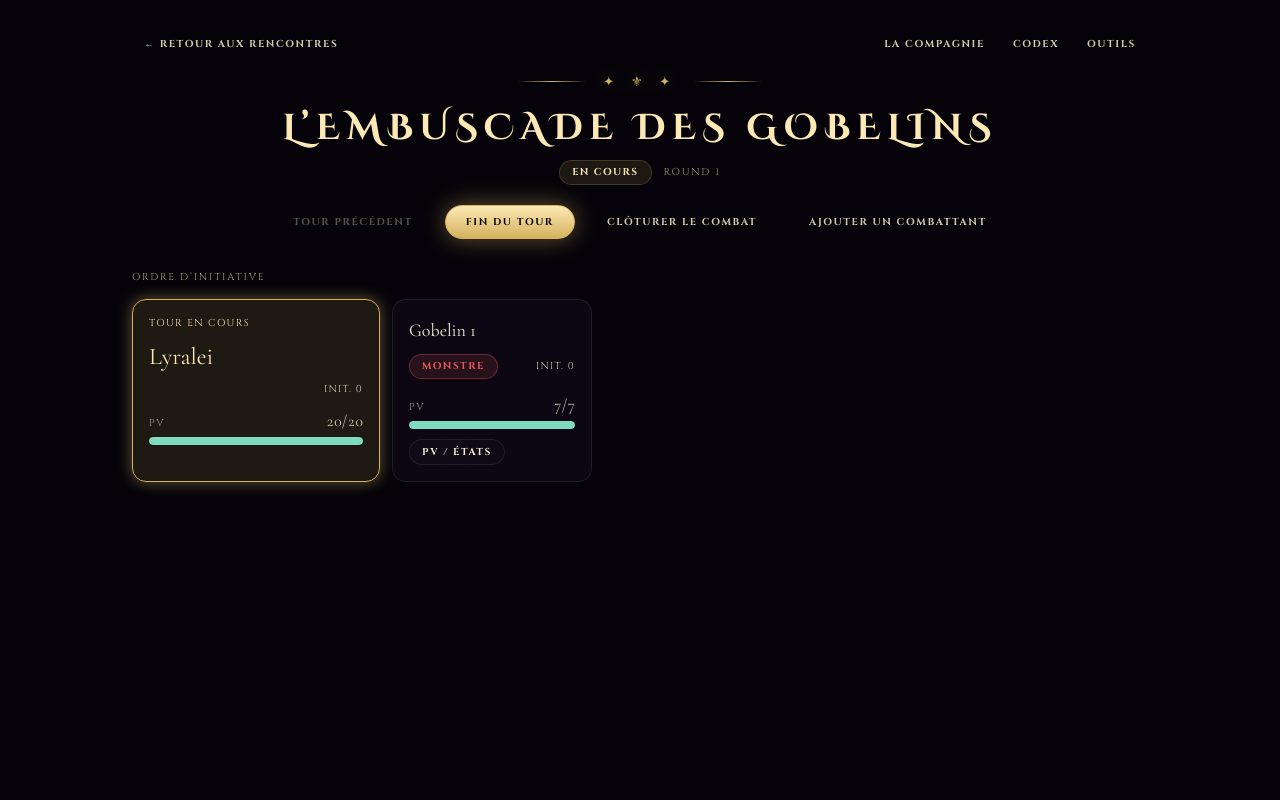
Test case: <EncounterScreen> — tracker éditable (M2 / M3) › retirer un combattant ferme la modale — elle pointerait dans le vide
Click the button with aria-label "PV / États — Gobelin 1" at (457, 452), box [409,438,505,464]
(page scrolled)
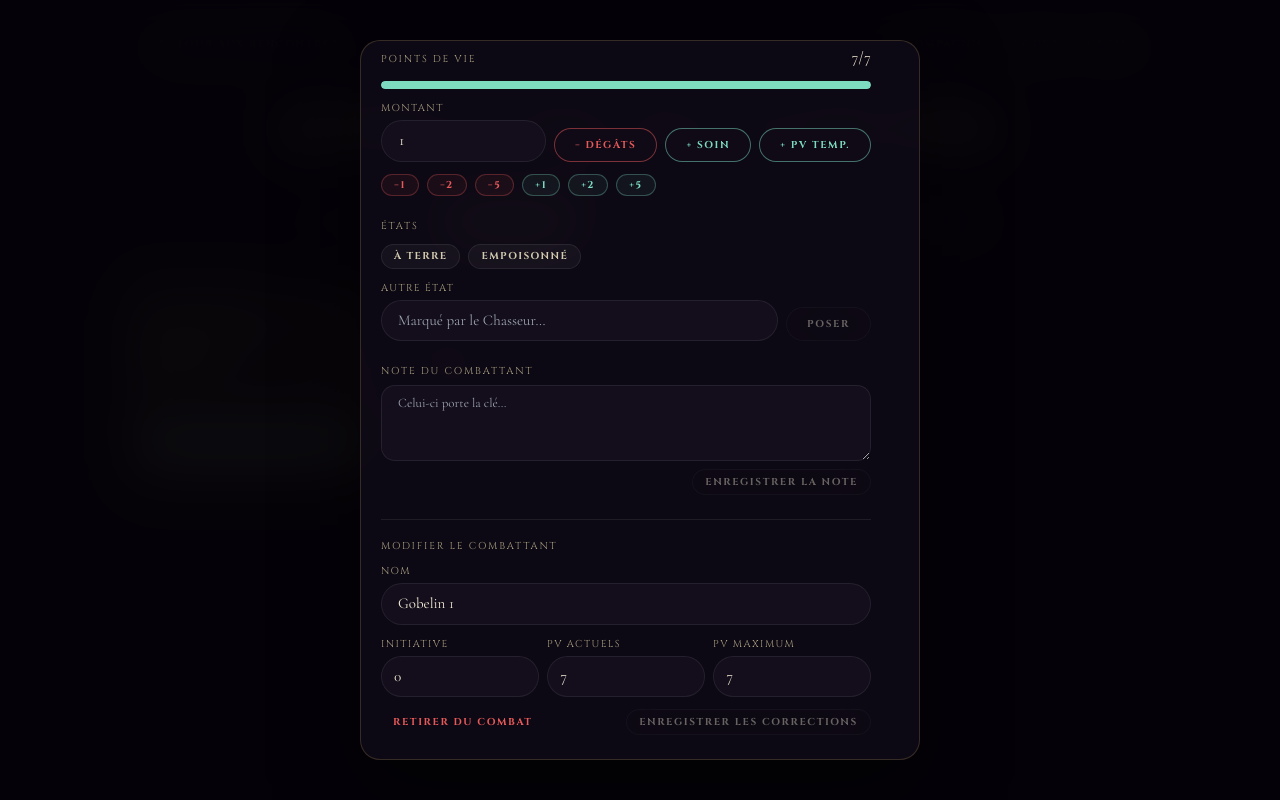
Click the button "Retirer du combat" at (463, 722), box [381,710,545,734]
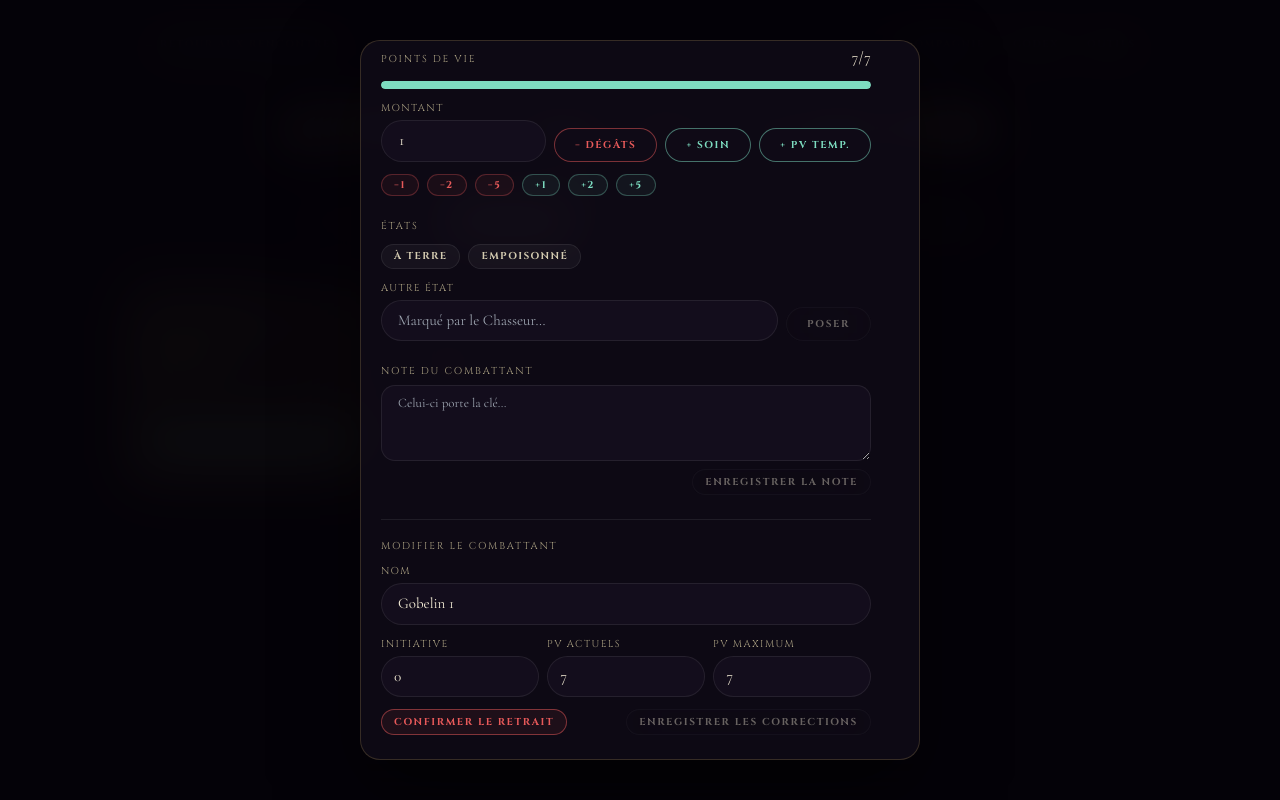
Click the button "Confirmer le retrait" at (474, 722), box [381,709,567,735]
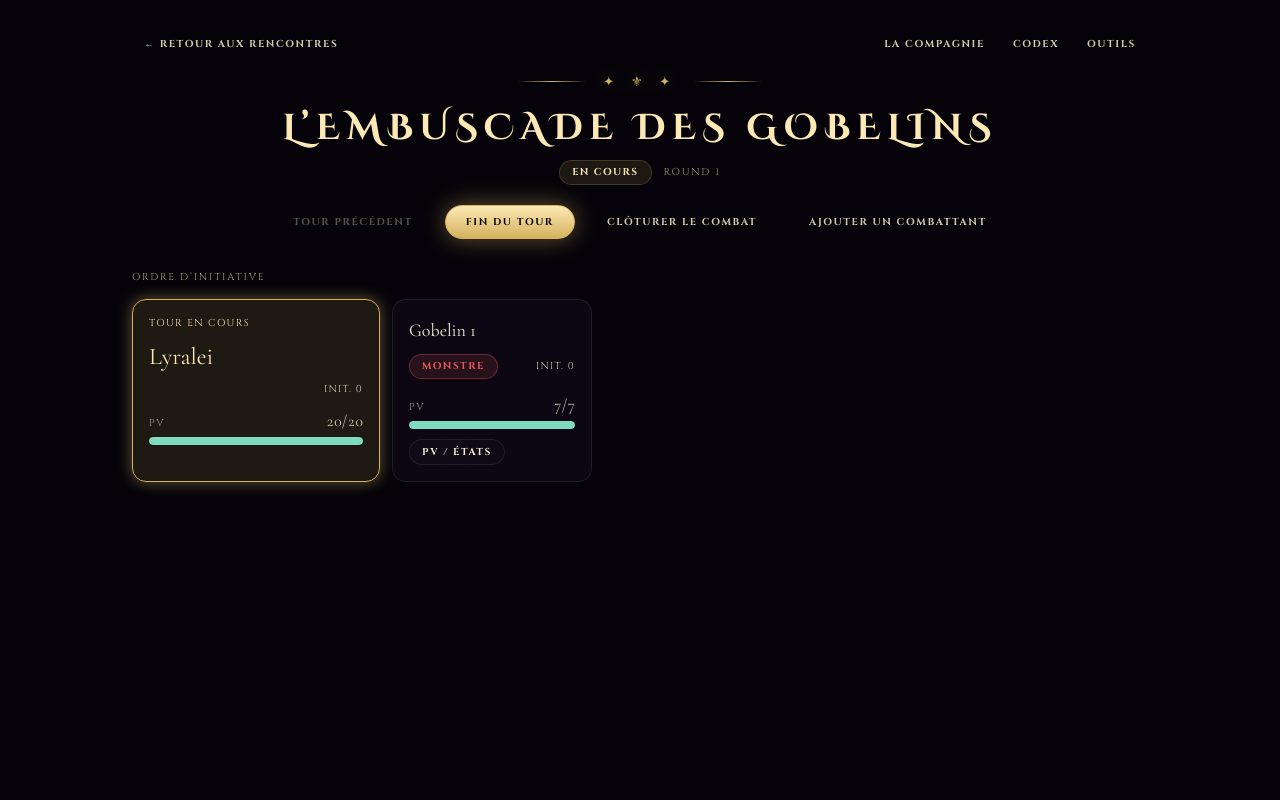
Expected: the dialog is gone
